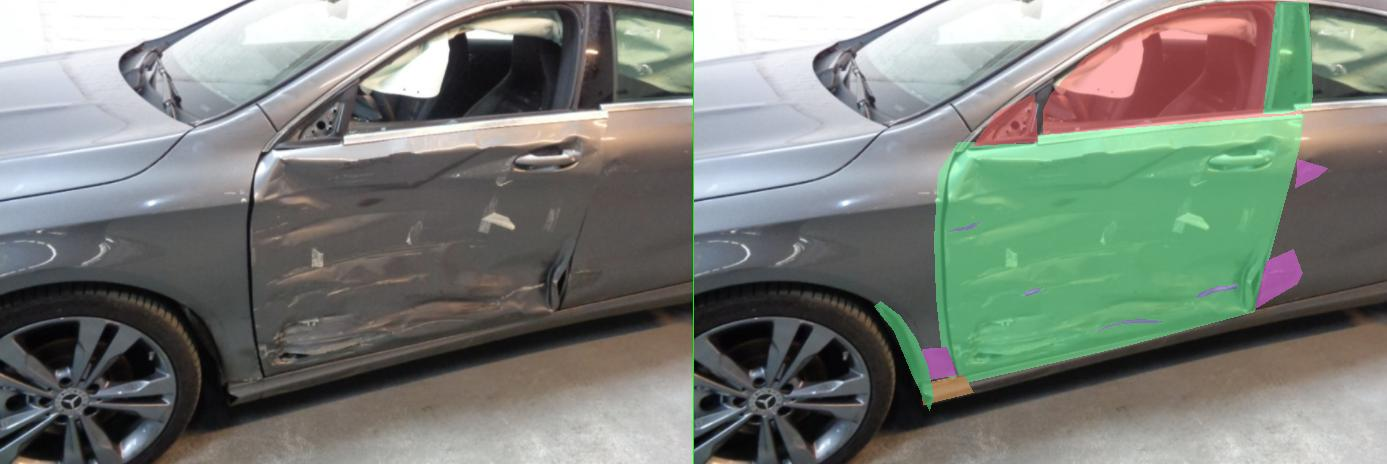Broken part: (480, 114, 1219, 383), (360, 301, 478, 410), (1139, 2, 1237, 113)
Dent: (1123, 249, 1217, 308), (454, 347, 526, 380), (1203, 159, 1267, 187)
Missing part: (699, 0, 1217, 134), (558, 94, 686, 145)
Paint chip: (452, 375, 558, 404)
Scratch: (807, 319, 937, 331), (1003, 283, 1089, 297), (510, 222, 572, 231), (656, 287, 697, 295)
